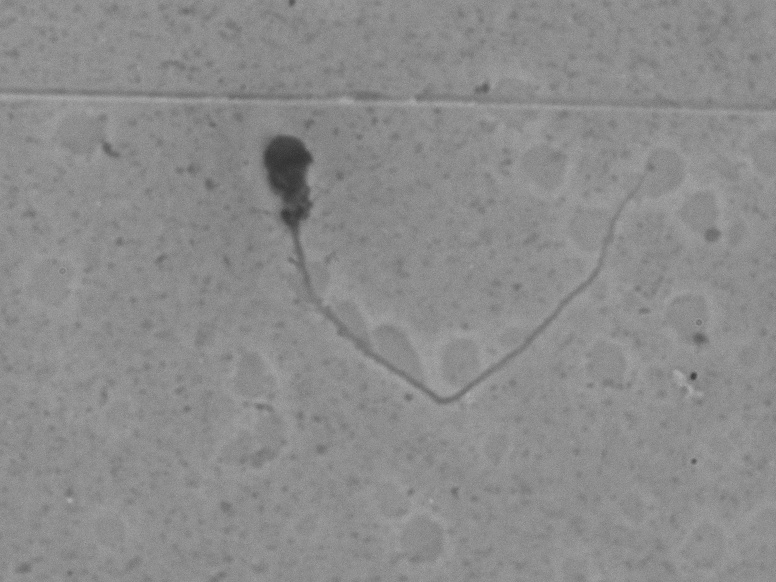Abnormal: (223, 109, 680, 441)
